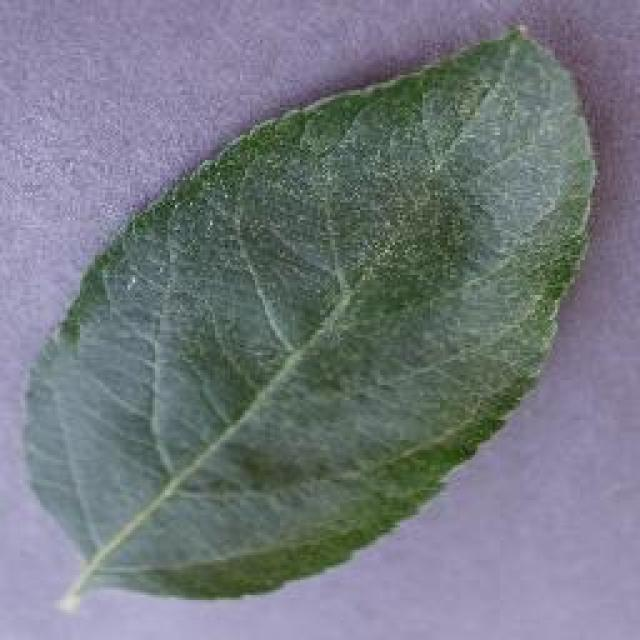apple healthy: (18, 20, 600, 610)
